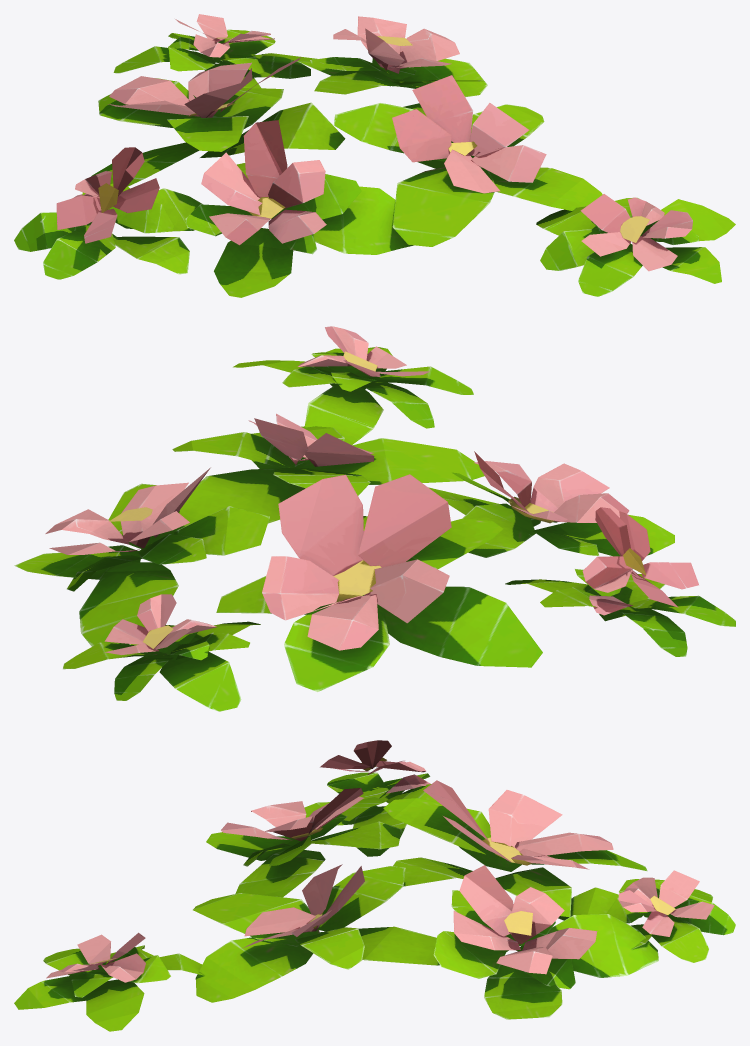
The model's file is Flower.fbx.
3 views of the same model, one above another, from view 1: azimuth 30°, elevation 25°; view 2: azimuth 150°, elevation 25°; view 3: azimuth 270°, elevation 25° (orthographic). The views are drawn at different scales.
Visible parts, largest first — view 1: Flower; view 2: Flower; view 3: Flower.
Boxes of the visible parts, x1,y1,x2,y2 form: Flower: (14, 14, 735, 297); Flower: (14, 326, 735, 711); Flower: (14, 740, 735, 1031).
Bounding box in the file's own units: 503 × 95.98 × 589.
